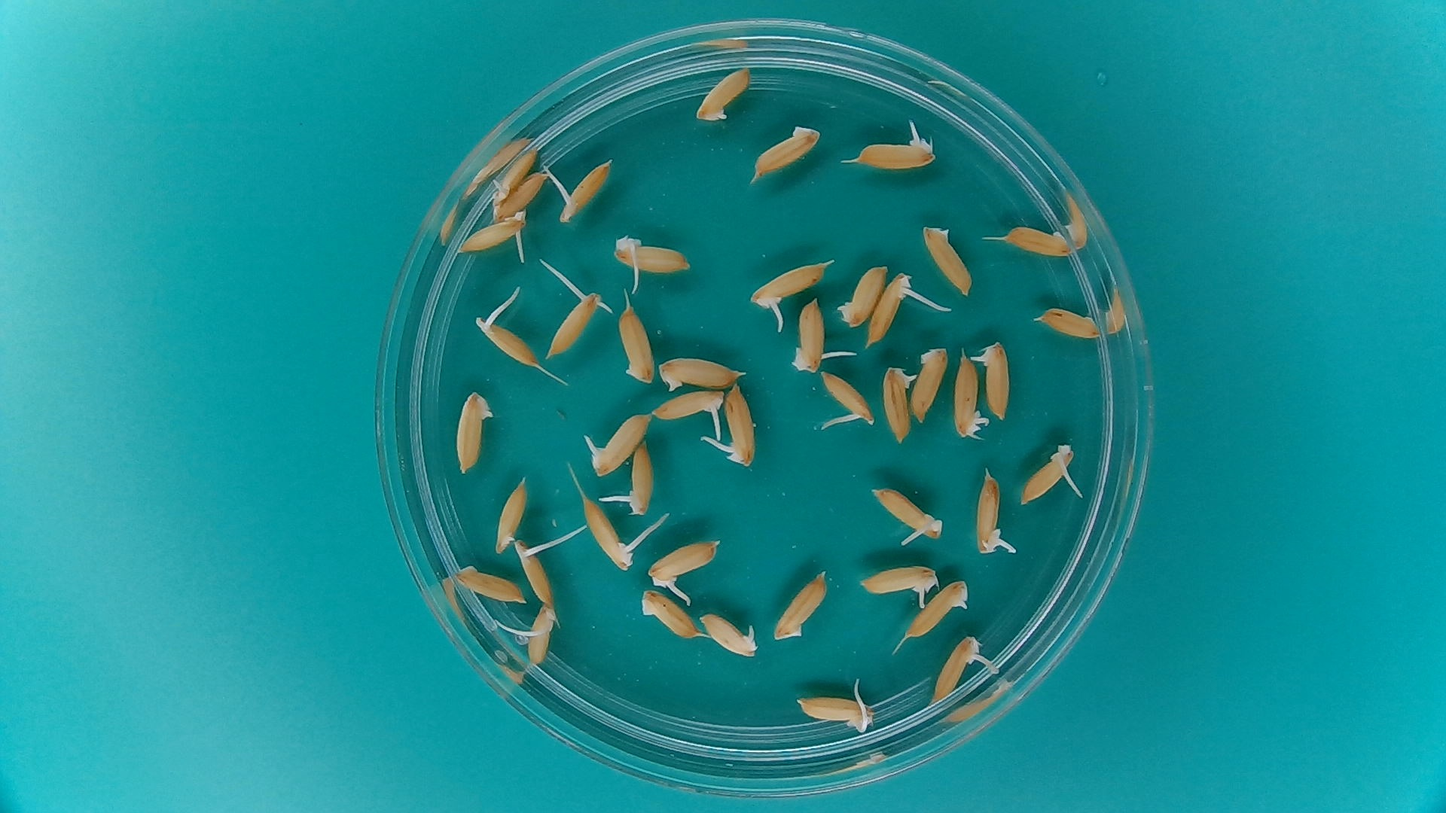no: (748, 119, 824, 178), (919, 221, 976, 298), (773, 568, 831, 642), (693, 63, 756, 125), (453, 387, 497, 475), (834, 262, 887, 330), (907, 341, 950, 424), (656, 353, 744, 393), (616, 302, 657, 386), (638, 588, 702, 641), (491, 166, 551, 221), (491, 474, 529, 556), (1033, 299, 1106, 340), (455, 563, 527, 604), (999, 221, 1073, 258)
yes: (745, 255, 834, 320), (471, 300, 543, 370), (868, 483, 944, 544), (582, 410, 651, 477), (575, 494, 635, 571), (645, 535, 722, 595), (545, 287, 606, 358), (904, 578, 972, 638), (1018, 440, 1078, 507), (719, 380, 761, 473), (557, 156, 613, 223), (609, 230, 694, 274), (929, 632, 980, 702), (818, 370, 877, 429), (789, 294, 831, 376), (856, 561, 938, 603), (972, 466, 1008, 560), (793, 690, 874, 730), (867, 269, 912, 340), (852, 134, 936, 172), (951, 352, 987, 440), (457, 210, 529, 254), (697, 611, 761, 659), (649, 386, 728, 424), (976, 338, 1011, 422), (880, 362, 916, 443), (516, 538, 557, 607), (517, 603, 559, 665), (622, 440, 655, 517), (488, 146, 534, 199)
